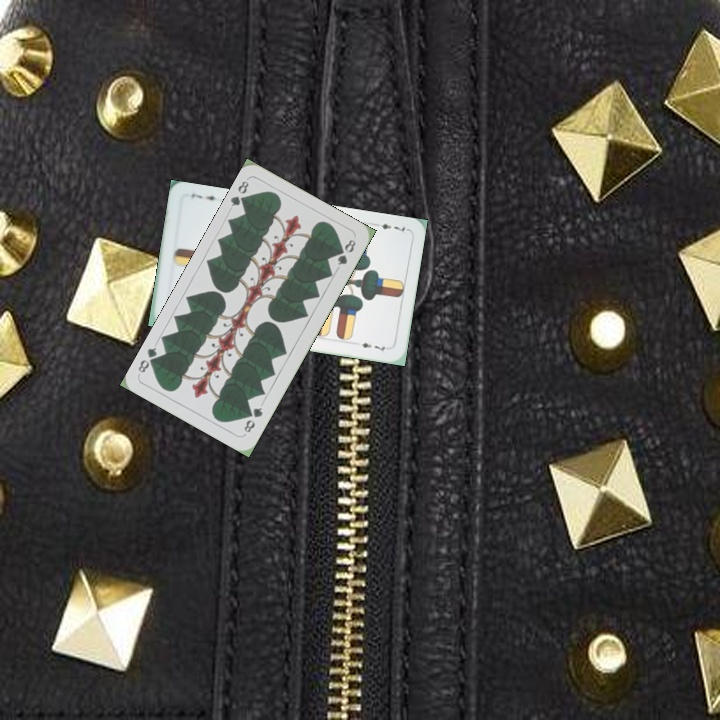E7: (369, 219, 407, 236)
G8: (226, 177, 252, 209), (240, 403, 265, 435)
